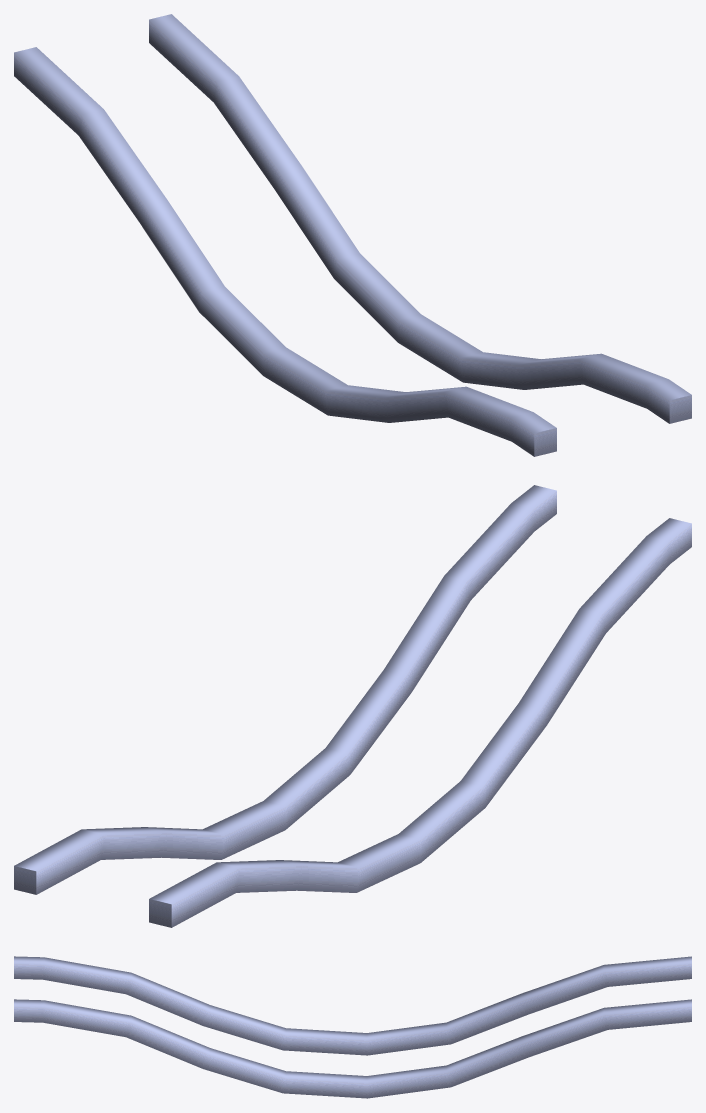
The model's file is railroad-rail-straight-bump-down.glb.
3 views of the same model, one above another, from view 1: azimuth 30°, elevation 25°; view 2: azimuth 150°, elevation 25°; view 3: azimuth 270°, elevation 25° (orthographic). The views are drawn at different scales.
Visible parts, largest first — view 1: railroad-rail-straight-bump-down; view 2: railroad-rail-straight-bump-down; view 3: railroad-rail-straight-bump-down.
Boxes of the visible parts, <box> form: railroad-rail-straight-bump-down: <box>14,14,691,456</box>; railroad-rail-straight-bump-down: <box>14,485,691,927</box>; railroad-rail-straight-bump-down: <box>14,956,691,1098</box>.
Size of the model in its own units: 0.6997 by 0.5986 by 4.
1 material, 1 textured.
